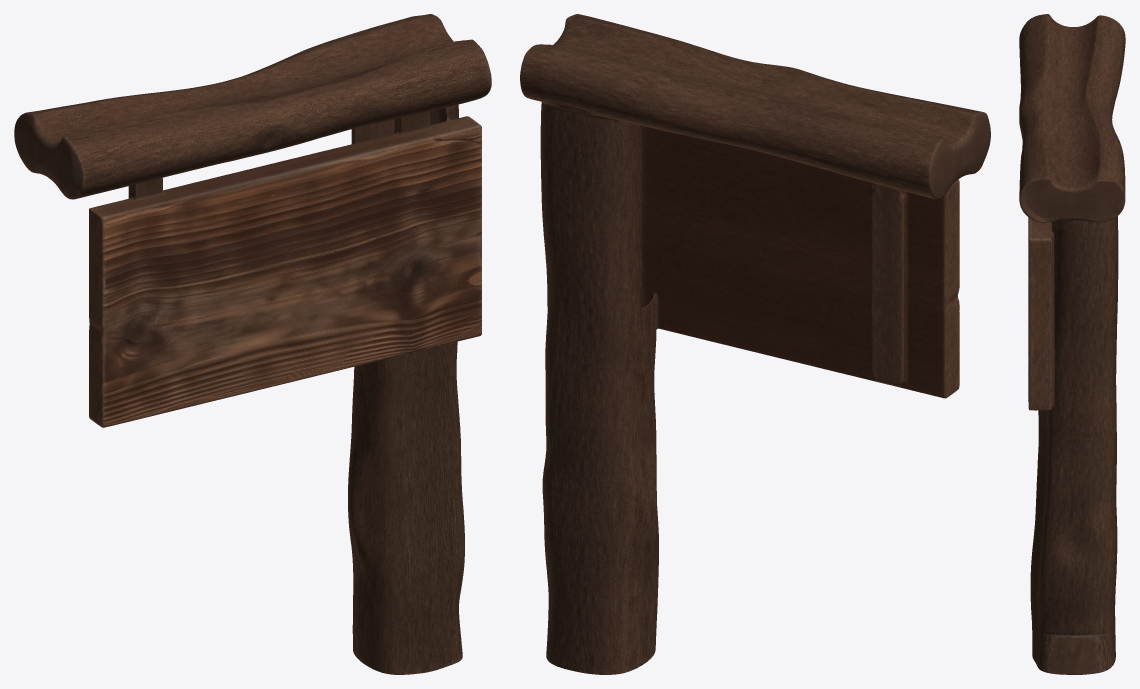
Rendered from prop11.glb.
The picture shows the model from 3 angles, left to right: view 1: azimuth 30°, elevation 25°; view 2: azimuth 150°, elevation 25°; view 3: azimuth 270°, elevation 25°; orthographic projection. The views are drawn at different scales.
Visible parts, largest first — view 1: mesh_node; view 2: mesh_node; view 3: mesh_node.
Boxes of the visible parts, x1,y1,x2,y2 form: mesh_node: [14, 14, 491, 674]; mesh_node: [520, 14, 990, 674]; mesh_node: [1019, 14, 1125, 674].
Bounding box in the file's own units: 1.34 × 1.9 × 0.3648.
Materials: 1 (1 with a texture image).
